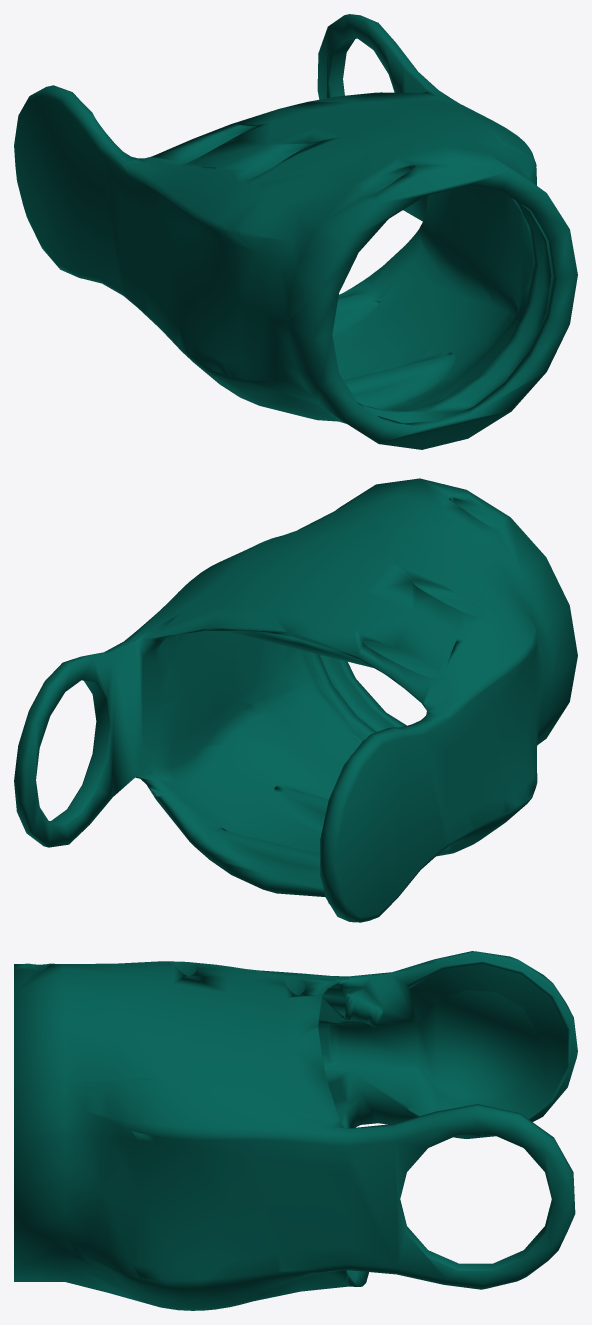
File: 2h09061_arml_t56.obj
3 views of the same model, one above another, from view 1: azimuth 30°, elevation 25°; view 2: azimuth 150°, elevation 25°; view 3: azimuth 270°, elevation 25° (orthographic). The views are drawn at different scales.
Bounding box in the file's own units: 0.153 × 0.1304 × 0.221.
